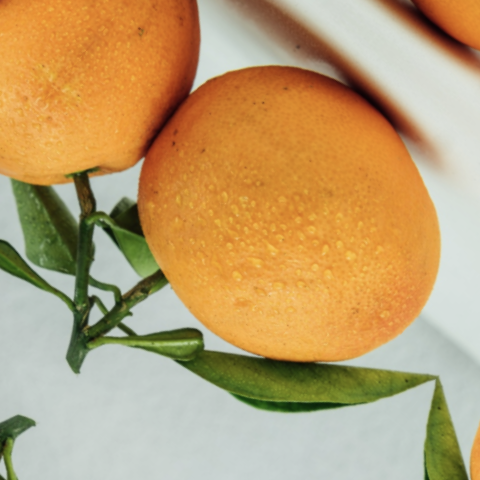orange: (36, 0, 480, 471)
